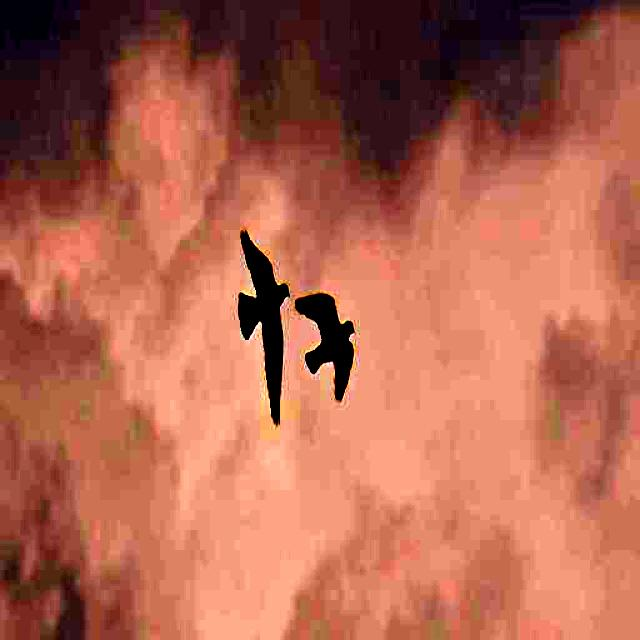airplane: (225, 208, 295, 456), (298, 248, 372, 452)
